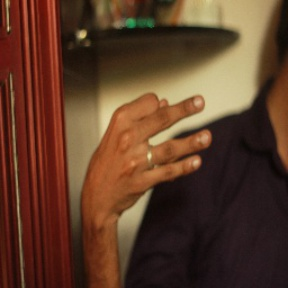K: (79, 95, 212, 194)
